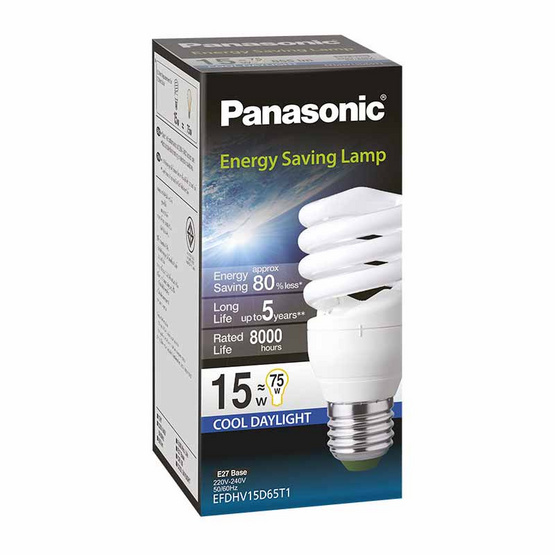Light_bulb: (291, 176, 402, 472)
